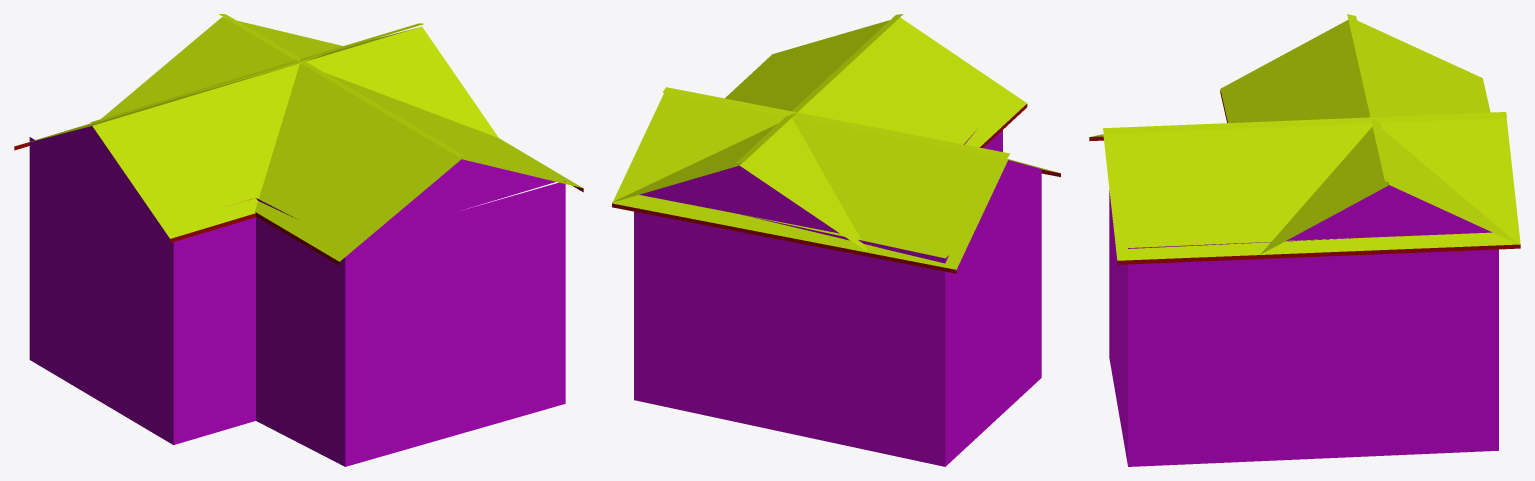
Rendered from bgj_203.glb.
3 views of the same model, side by side, from view 1: azimuth 30°, elevation 25°; view 2: azimuth 150°, elevation 25°; view 3: azimuth 270°, elevation 25° (orthographic). The views are drawn at different scales.
Parts seen in each view (by area): view 1: bgj_203; view 2: bgj_203; view 3: bgj_203.
Part boxes in pixels (x1=…): bgj_203: x1=14, y1=14, x2=583, y2=466; bgj_203: x1=612, y1=14, x2=1060, y2=466; bgj_203: x1=1089, y1=14, x2=1520, y2=466.
Size of the model in its own units: 11.52 by 8.23 by 11.44.
